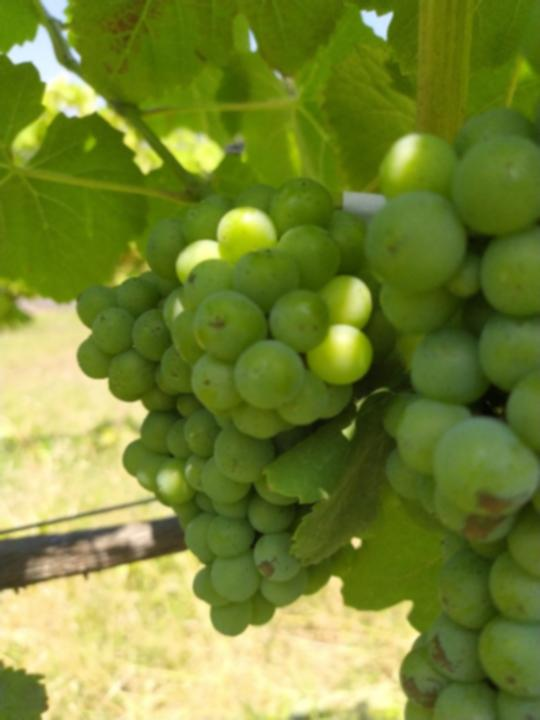grape: (72, 176, 384, 638)
